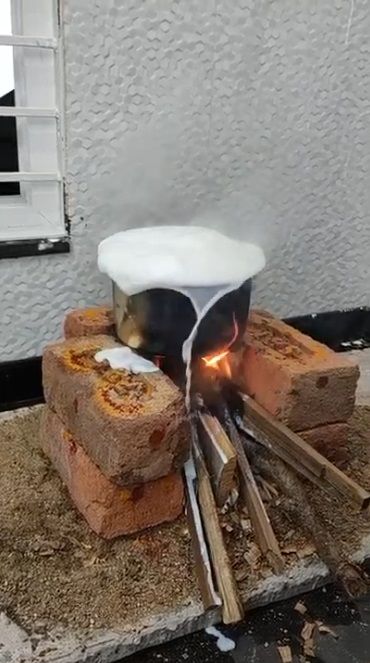Boiled: (87, 210, 277, 428)
